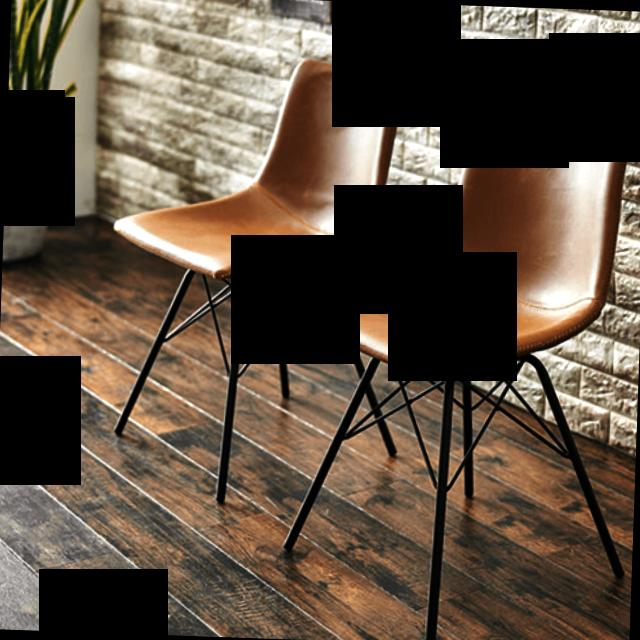chair vintage: (269, 87, 640, 640)
